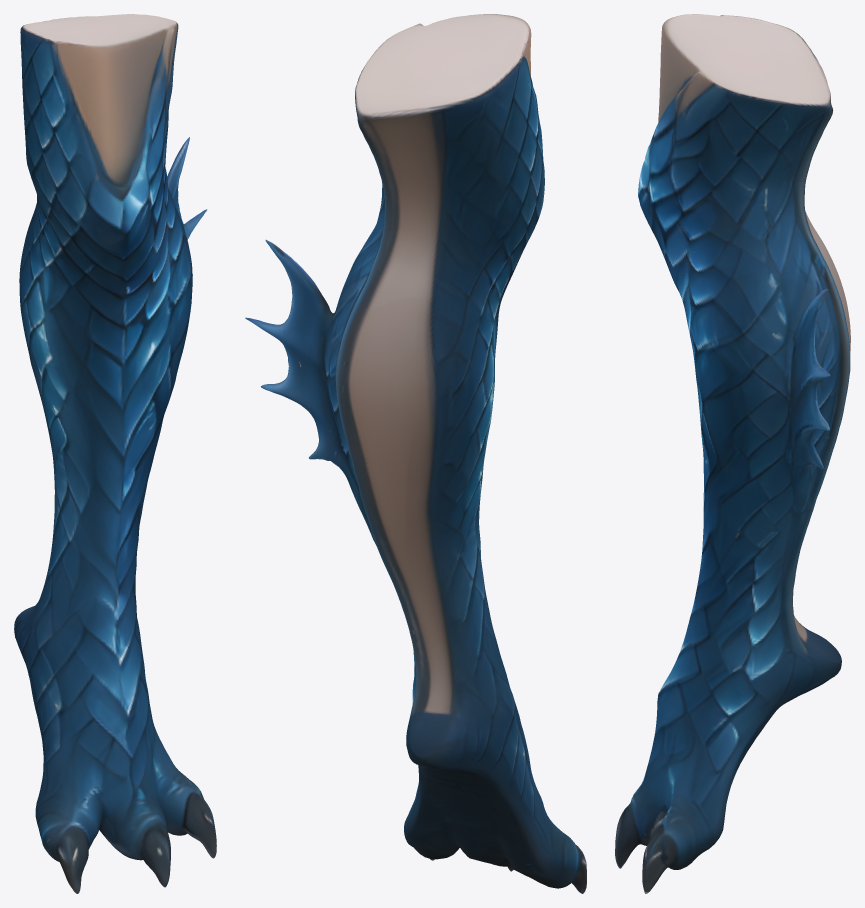
Rendered from base_basic_shaded.fbx.
The picture shows the model from 3 angles, left to right: view 1: azimuth 30°, elevation 25°; view 2: azimuth 150°, elevation 25°; view 3: azimuth 270°, elevation 25°; orthographic projection. The views are drawn at different scales.
Visible parts, largest first — view 1: model; view 2: model; view 3: model.
Part boxes in pixels (x1,y1,x2,y2): model: (14, 14, 216, 893); model: (245, 14, 586, 893); model: (615, 14, 850, 893).
Size of the model in its own units: 57.31 by 190 by 48.82.
